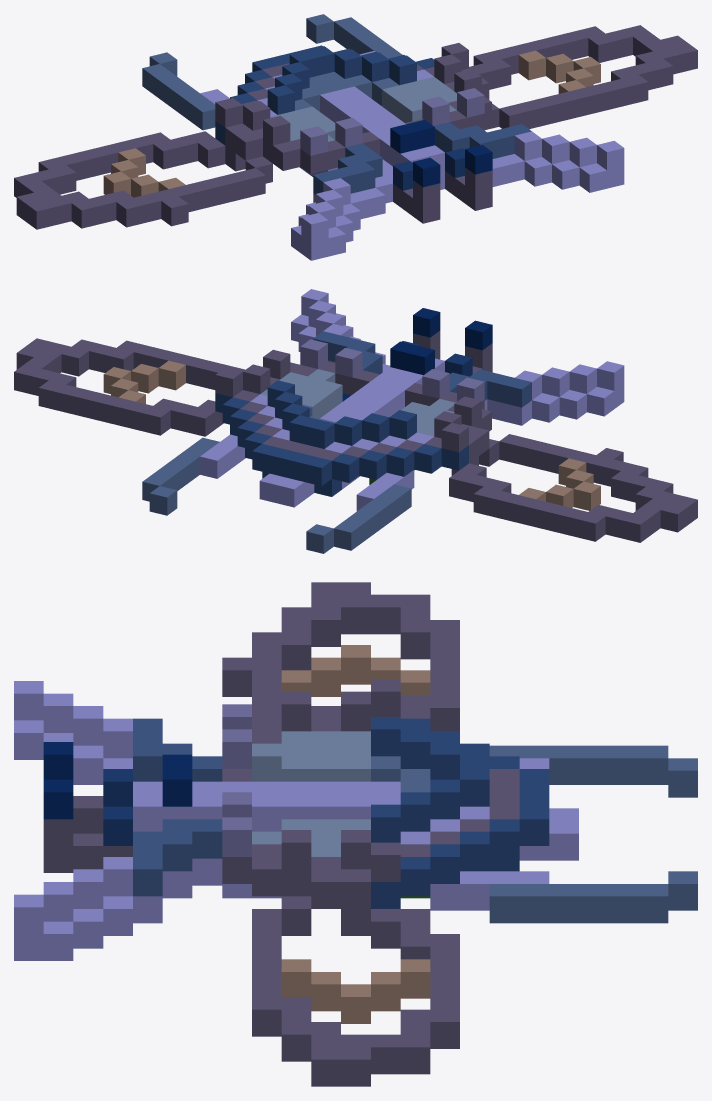
Rendered from spaceShip_bug.obj.
3 views of the same model, one above another, from view 1: azimuth 30°, elevation 25°; view 2: azimuth 150°, elevation 25°; view 3: azimuth 270°, elevation 25° (orthographic). The views are drawn at different scales.
Size of the model in its own units: 38 by 3 by 23.
1 material, 1 textured.
